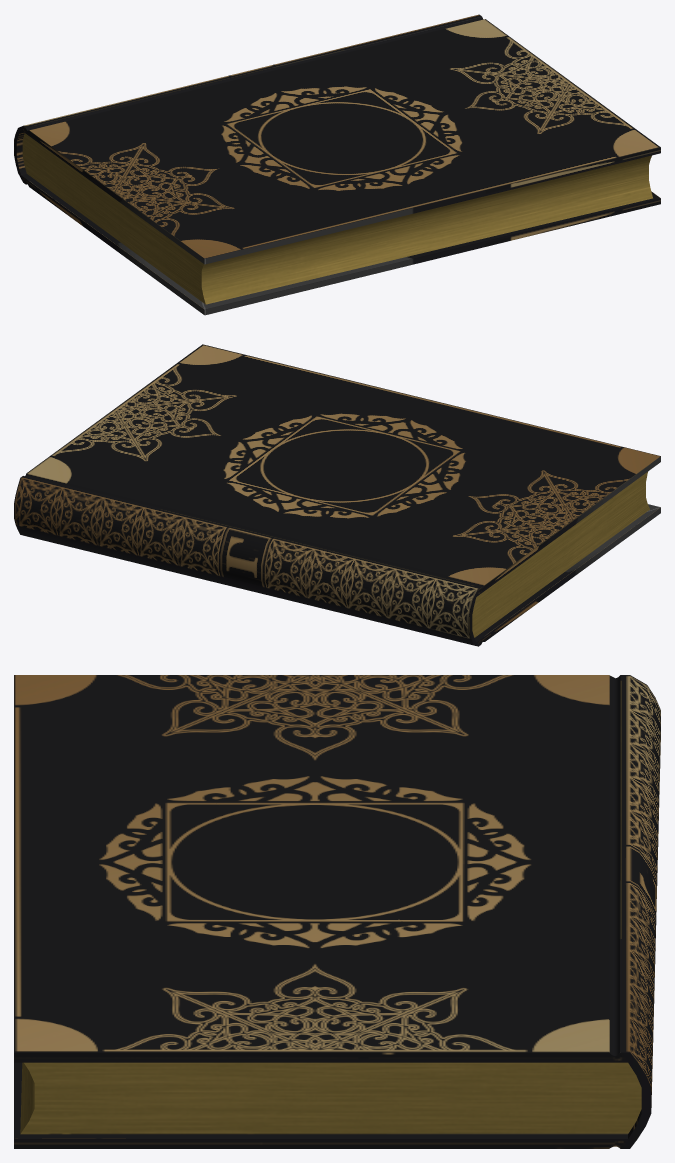
Rendered from Logbook.fbx.
The picture shows the model from 3 angles, top to bottom: view 1: azimuth 30°, elevation 25°; view 2: azimuth 150°, elevation 25°; view 3: azimuth 270°, elevation 25°; orthographic projection. The views are drawn at different scales.
Parts seen in each view (by area): view 1: Cube.001; view 2: Cube.001; view 3: Cube.001.
Part boxes in pixels (<box>): Cube.001: <box>14,14,660,315</box>; Cube.001: <box>14,344,660,646</box>; Cube.001: <box>14,675,660,1148</box>.
Bounding box in the file's own units: 244 × 29.01 × 177.
1 material, 1 textured.
